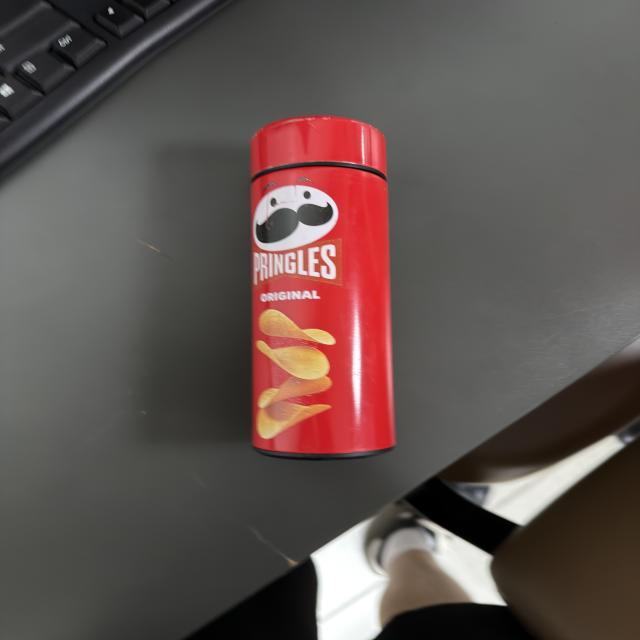water bottle: (250, 116, 395, 460)
